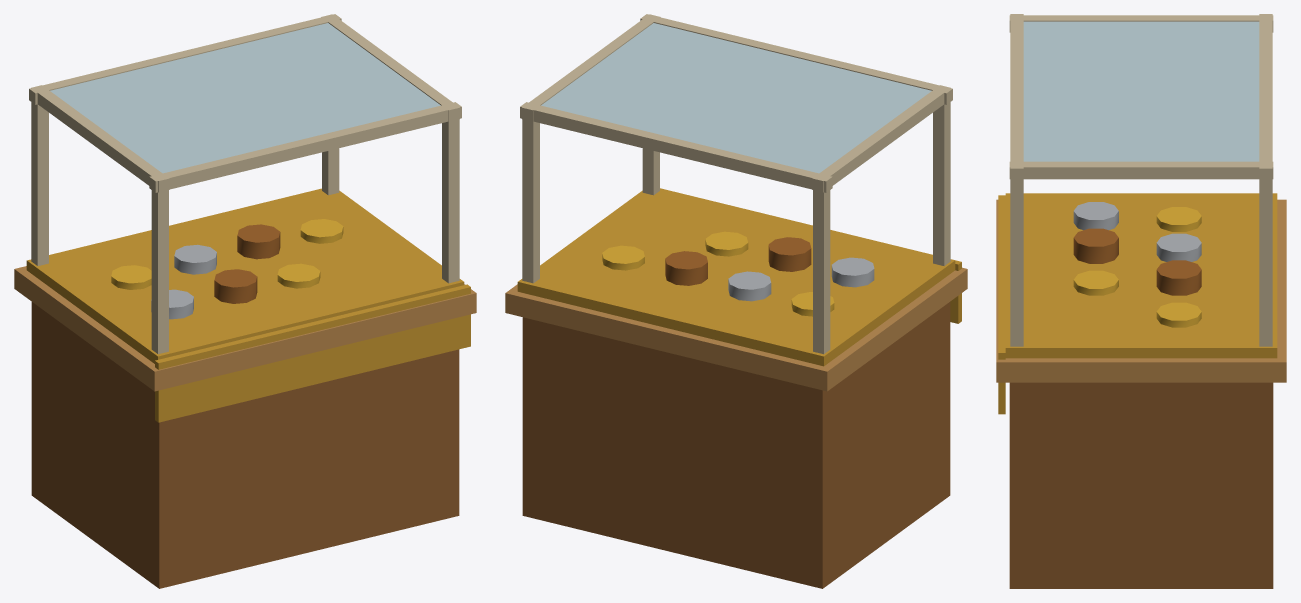
Rendered from old_coins_display.glb.
The picture shows the model from 3 angles, left to right: view 1: azimuth 30°, elevation 25°; view 2: azimuth 150°, elevation 25°; view 3: azimuth 270°, elevation 25°; orthographic projection. The views are drawn at different scales.
Parts seen in each view (by area): view 1: decor-old_coins_display; view 2: decor-old_coins_display; view 3: decor-old_coins_display.
Part boxes in pixels (box(x1,y1,x2,y2)): decor-old_coins_display: box(14, 14, 476, 588); decor-old_coins_display: box(505, 14, 967, 588); decor-old_coins_display: box(996, 14, 1286, 588).
Size of the model in its own units: 1.02 by 1.24 by 0.77.
